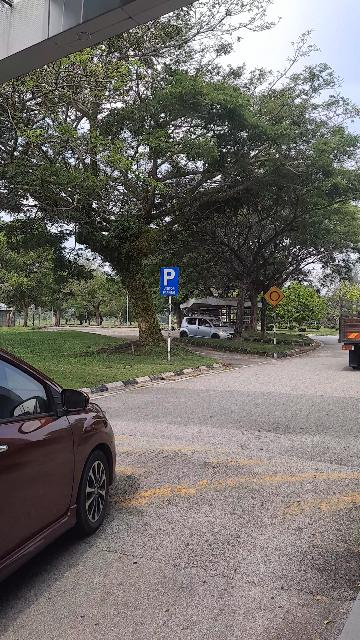car: (1, 338, 121, 626)
